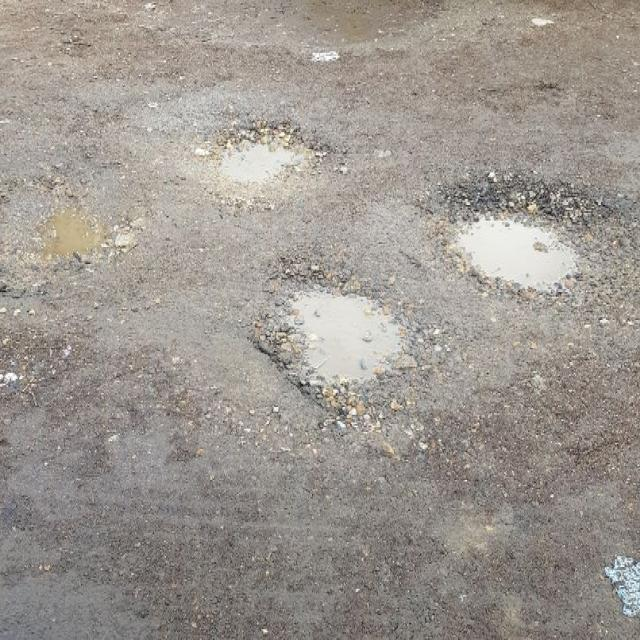Pothole: (248, 247, 422, 422), (426, 169, 614, 304), (207, 113, 329, 196)
